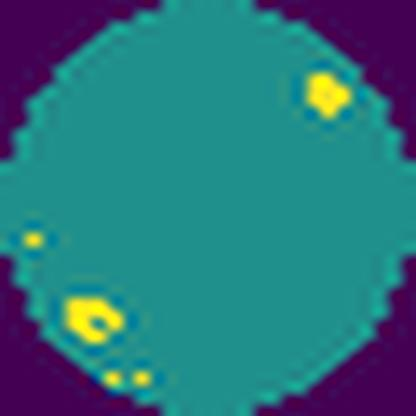Loc: (62, 293, 121, 346), (304, 72, 352, 122)
